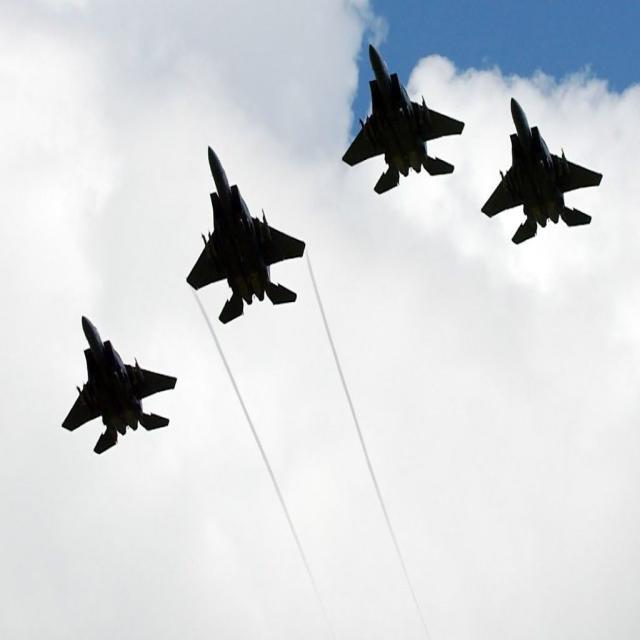MIL_Plane: (185, 143, 306, 324), (340, 42, 466, 196), (480, 97, 603, 245), (60, 316, 178, 456)
